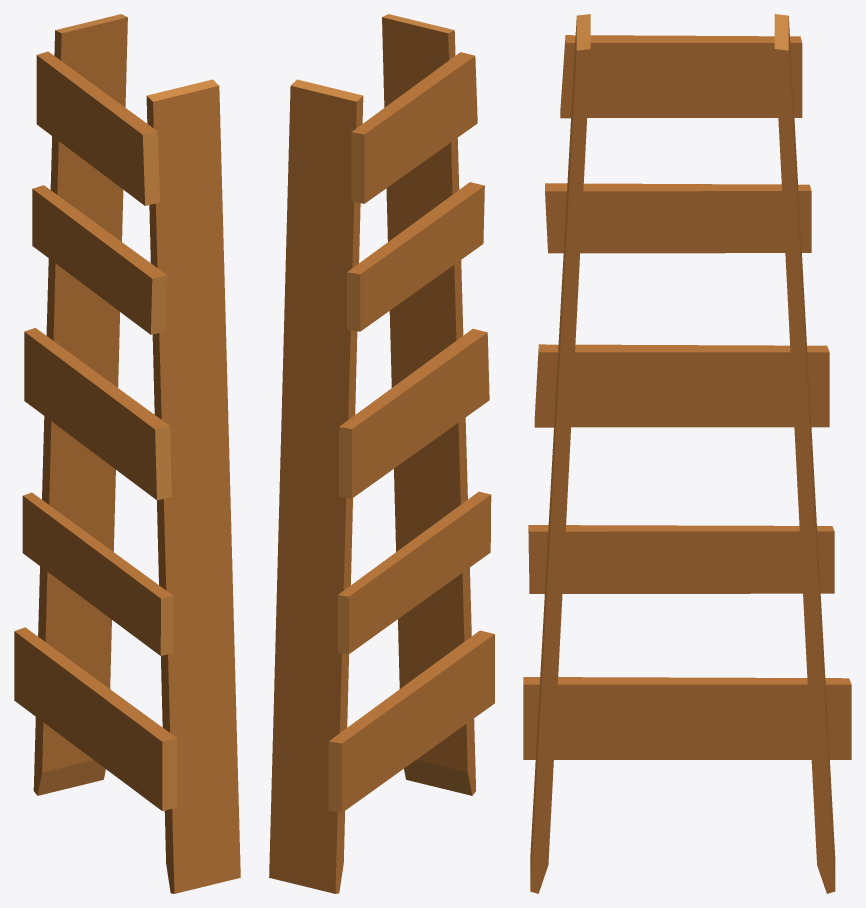
The model's file is ladder_01.fbx.
3 renders of one model, left to right at view 1: azimuth 30°, elevation 25°; view 2: azimuth 150°, elevation 25°; view 3: azimuth 270°, elevation 25°, orthographic. The views are drawn at different scales.
Visible parts, largest first — view 1: ladder_01; view 2: ladder_01; view 3: ladder_01.
Part boxes in pixels (x1,y1,x2,y2): ladder_01: [14, 14, 240, 893]; ladder_01: [269, 14, 494, 893]; ladder_01: [523, 14, 851, 893].
Bounding box in the file's own units: 49.69 × 453 × 160.
